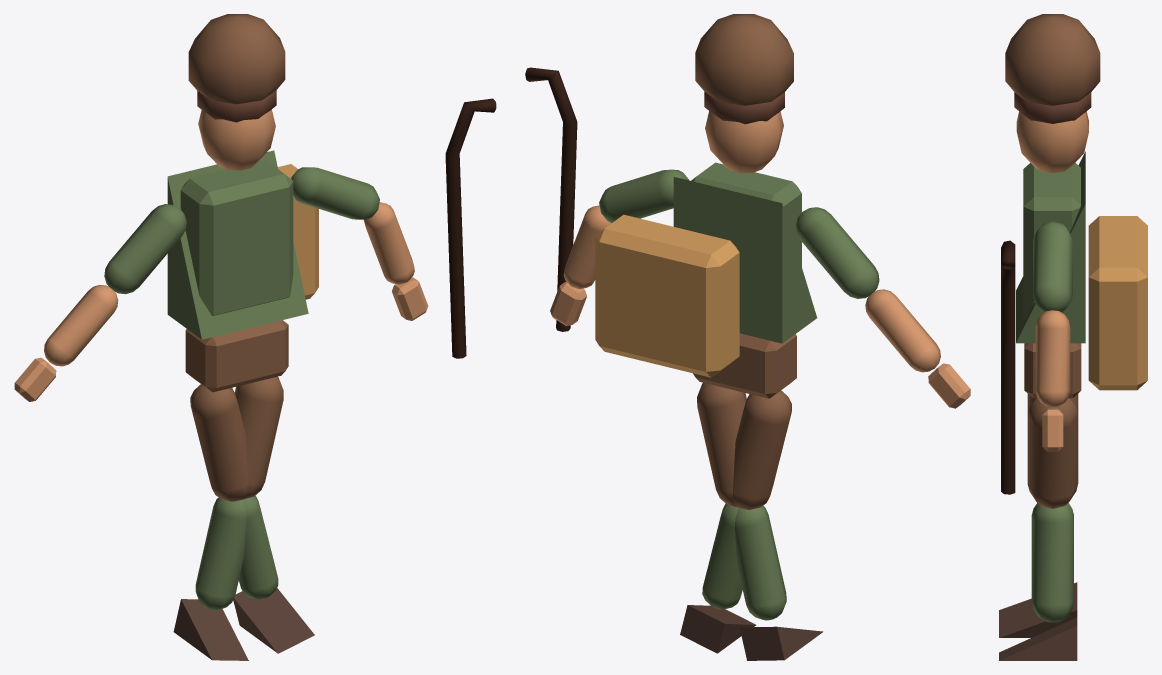
The model's file is adventurer.rustic.glb.
3 renders of one model, left to right at view 1: azimuth 30°, elevation 25°; view 2: azimuth 150°, elevation 25°; view 3: azimuth 270°, elevation 25°, orthographic.
Parts seen in each view (by area): view 1: torso, accessory.head, tunic, pelvis, thigh.left, shin.right, accessory.main-hand, upper-arm.left, thigh.right, head, upper-arm.right, forearm.left (+8 smaller); view 2: accessory.back, tunic, accessory.head, thigh.left, shin.right, upper-arm.left, pelvis, thigh.right, head, accessory.main-hand, forearm.left, upper-arm.right (+8 smaller); view 3: accessory.back, accessory.head, shin.left, thigh.right, torso, accessory.main-hand, upper-arm.right, head, forearm.right, tunic, foot.left, foot.right (+3 smaller).
Boxes of the visible parts, box(x1,y1,x2,y2) form: torso: box(180, 160, 293, 315); accessory.head: box(188, 14, 285, 104); tunic: box(167, 150, 308, 339); pelvis: box(185, 320, 288, 392); thigh.left: box(190, 384, 248, 501); shin.right: box(195, 497, 246, 610); accessory.main-hand: box(445, 98, 496, 358); upper-arm.left: box(104, 204, 186, 294); thigh.right: box(234, 376, 283, 499); head: box(198, 109, 275, 170); upper-arm.right: box(291, 167, 379, 219); forearm.left: box(44, 285, 118, 366); accessory.back: box(595, 214, 739, 377); tunic: box(673, 177, 817, 343); accessory.head: box(695, 14, 793, 105); thigh.left: box(733, 390, 791, 509); shin.right: box(735, 505, 786, 620); upper-arm.left: box(795, 207, 879, 298); pelvis: box(693, 333, 796, 398); thigh.right: box(697, 382, 746, 507); head: box(705, 111, 783, 173); accessory.main-hand: box(525, 67, 577, 331); forearm.left: box(865, 289, 940, 372); upper-arm.right: box(599, 169, 689, 222); accessory.back: box(1088, 216, 1147, 390); accessory.head: box(1005, 14, 1100, 105); shin.left: box(1031, 504, 1073, 622); thigh.right: box(1027, 398, 1078, 508); torso: box(1023, 163, 1080, 318); accessory.main-hand: box(1001, 240, 1015, 494); upper-arm.right: box(1033, 221, 1072, 312); head: box(1016, 111, 1088, 173); forearm.right: box(1035, 310, 1070, 407); tunic: box(1016, 151, 1085, 343); foot.left: box(999, 617, 1077, 660); foot.right: box(999, 582, 1077, 637).
Size of the model in its own units: 2.52 by 3.28 by 0.705.
